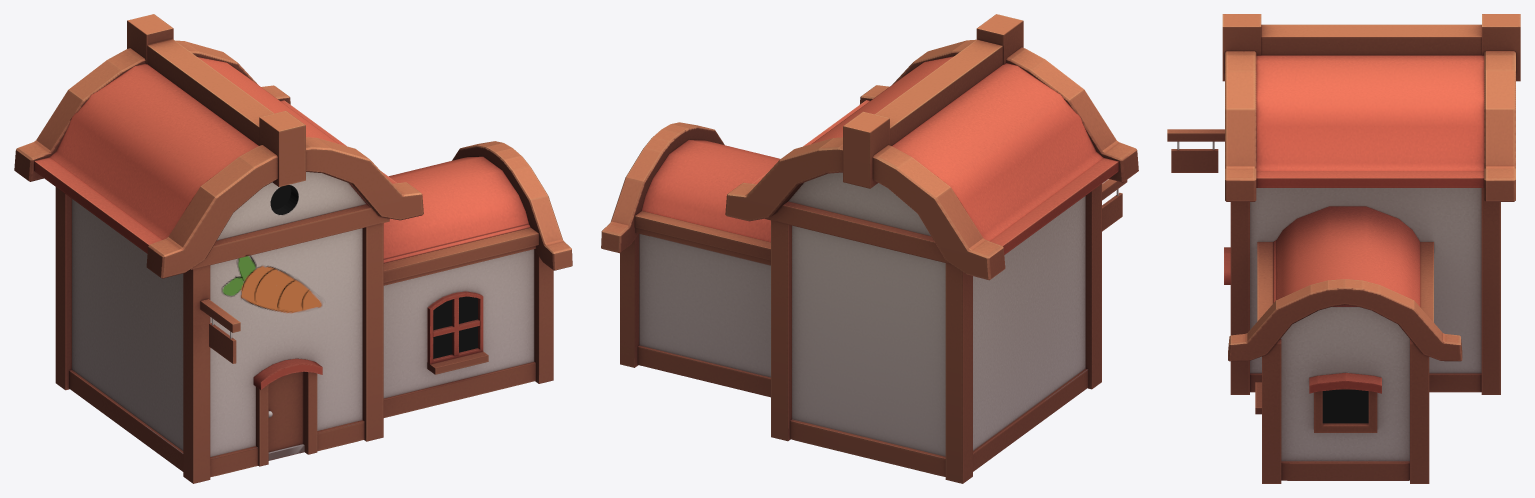
The model's file is Store.fbx.
3 renders of one model, left to right at view 1: azimuth 30°, elevation 25°; view 2: azimuth 150°, elevation 25°; view 3: azimuth 270°, elevation 25°, orthographic. The views are drawn at different scales.
Visible parts, largest first — view 1: Cube.003; view 2: Cube.003; view 3: Cube.003.
Part boxes in pixels (x1,y1,x2,y2): Cube.003: (14, 14, 572, 483); Cube.003: (601, 14, 1138, 483); Cube.003: (1167, 14, 1520, 483).
Bounding box in the file's own units: 472 × 361 × 352.
1 material, 1 textured.
